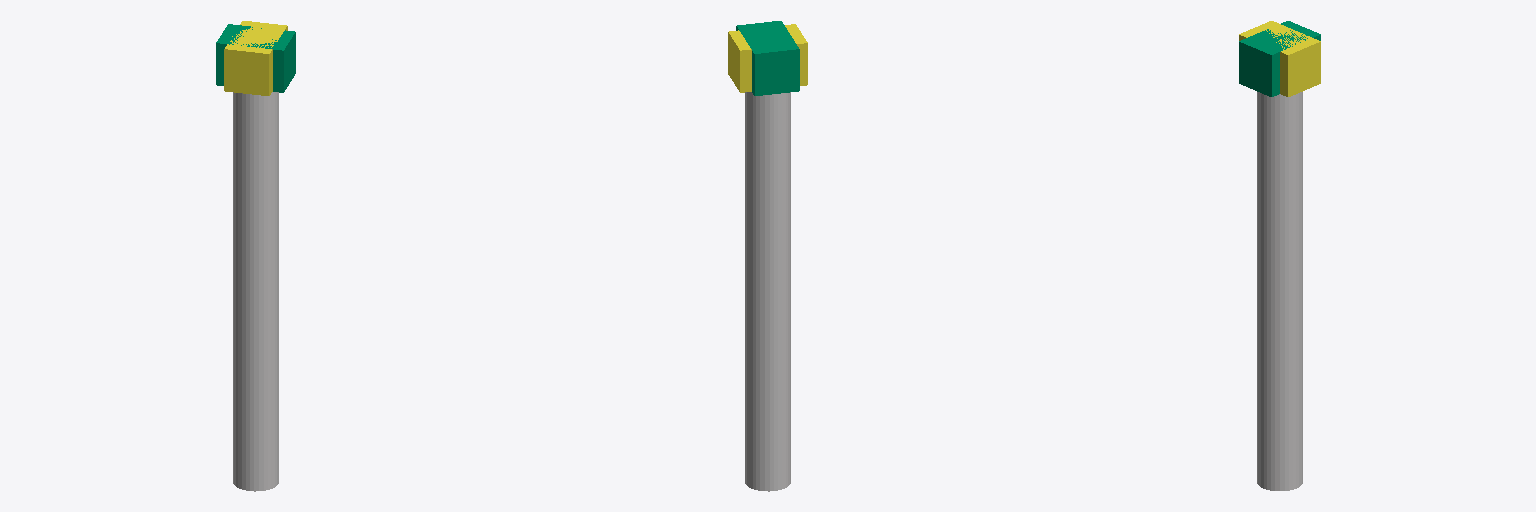
URDF robot description (camera_right):
<?xml version="1.0" encoding="utf-8"?>
<robot
  name="camera_right">

  <link name="world" />

  <joint name="base_joint" type="fixed">
    <parent link="world"/>
    <child link="body" />
    <origin xyz="0 0 0.010" rpy="0 0 0"/>
  </joint>

  <link name="body">
    <inertial>
      <origin
        xyz="0 0 0.5"
        rpy="0 0 0" />
      <mass
        value="1" />
      <inertia
        ixx="0.003958333"
        ixy="0"
        ixz="0"
        iyy="0.003958333"
        iyz="0"
        izz="0.02" />
    </inertial>
    
    <visual>
      <origin
          xyz="0 0 0.5"
          rpy="0 0 0" />
      <geometry>
        <cylinder length="1" radius="0.05"/>
      </geometry>
      <material
        name="">
        <color
          rgba="0.84706 0.83922 0.83922 1" />
      </material>
    </visual>

    <collision>
      <origin
        xyz="0 0 0.5"
        rpy="0 0 0" />
      <geometry>
        <cylinder length="1" radius="0.05"/>
      </geometry>
    </collision>
    </link>


    <joint name="camera_joint_0" type="fixed">
        <origin xyz="0 0 1" rpy="0 0 -2.355"/>
        <parent link="body"/>
        <child link="camera_link_0"/>
    </joint>


    <link name="camera_link_0">
        <visual>
            <origin xyz="0 0 0" rpy="0 0 0"/>
            <geometry>
                <box size="0.1 0.15 0.1" />
            </geometry>
        </visual>

        <collision>
            <origin xyz="0.003 0.065 0.007" rpy="0 0 0"/>
            <geometry>
                <box size="0.012 0.132 0.020"/>
            </geometry>
        </collision>    
    </link>

    <joint name="camera_joint_1" type="fixed">
        <origin xyz="0 0 1" rpy="0 0 -0.785398"/>
        <parent link="body"/>
        <child link="camera_link_1"/>
    </joint>

    <link name="camera_link_1">
        <visual>
            <origin xyz="0 0 0" rpy="0 0 0"/>
            <geometry>
                <box size="0.1 0.15 0.1" />
            </geometry>
        </visual>
    </link>

    <!--gazebo reference="body">
        <mu1>1</mu1>
        <mu2>1</mu2>
        <fdir1>1 0 0</fdir1>
        <kp>1e+13</kp>
        <kd>1</kd>
        <maxVel>0</maxVel>
        <minDepth>0.0000001</minDepth>
        <gravity>1</gravity>
        <material>Gazebo/Grey</material>
    </gazebo-->

    <!--gazebo reference="camera_link_0">
        <sensor type="camera" name="camera_right_0">
        <update_rate>100.0</update_rate>
            <camera name="head">
                <horizontal_fov>1.3962634</horizontal_fov>
                <image>
                <width>640</width>
                <height>320</height>
                <format>R8G8B8</format>
                </image>
            </camera>        
            <plugin name="camera_controller" filename="libgazebo_ros_camera.so">
                <alwaysOn>true</alwaysOn>
                <updateRate>0.0</updateRate>
                <cameraName>camera_right_0</cameraName>
                <imageTopicName>image_raw</imageTopicName>
                <cameraInfoTopicName>camera_info</cameraInfoTopicName>
                <frameName>camera_link_0</frameName>
                <hackBaseline>0.07</hackBaseline>
                <distortionK1>0.0</distortionK1>
                <distortionK2>0.0</distortionK2>
                <distortionK3>0.0</distortionK3>
                <distortionT1>0.0</distortionT1>
                <distortionT2>0.0</distortionT2>
            </plugin>
        </sensor>
    </gazebo-->

    <gazebo reference="camera_link_0">
      <sensor name="camera_right_0" type="depth">
        <update_rate>0</update_rate>
        <camera>
          <horizontal_fov>1.50098</horizontal_fov>
          <vertical_fov>0.7417649</vertical_fov>
          <image>
            <width>640</width>
            <height>360</height>
            <format>R8G8B8</format>
          </image>
          <clip>
            <near>0.1</near>
            <far>100</far>
          </clip>
        </camera>
        <plugin name="camera_right_0_controller" filename="libgazebo_ros_openni_kinect.so">
          <baseline>0.1</baseline>
          <alwaysOn>true</alwaysOn>
          <update_rate>0</update_rate>
          <cameraName>camera_right_0_ir</cameraName>
          <imageTopicName>camera_right_0/color/image_raw</imageTopicName>
          <cameraInfoTopicName>/camera_right_0/color/camera_info</cameraInfoTopicName>
          <depthImageTopicName>/camera_right_0/depth/image_raw</depthImageTopicName>
          <depthImageInfoTopicName>/camera_right_0/depth/camera_info</depthImageInfoTopicName>
          <pointCloudTopicName>/camera_right_0/depth/points</pointCloudTopicName>
          <frameName>camera_link_0</frameName>
          <pointCloudCutoff>0.1</pointCloudCutoff>
          <pointCloudCutoffMax>15.0</pointCloudCutoffMax>
          <distortionK1>0.00000001</distortionK1>
          <distortionK2>0.00000001</distortionK2>
          <distortionK3>0.00000001</distortionK3>
          <distortionT1>0.00000001</distortionT1>
          <distortionT2>0.00000001</distortionT2>
          <CxPrime>0</CxPrime>
          <Cx>320</Cx>
          <Cy>180</Cy>
          <focalLength>343.159073</focalLength>
          <hackBaseline>0</hackBaseline>
        </plugin>
      </sensor>
    </gazebo>



    <!--gazebo reference="camera_link_1">
        <sensor type="camera" name="camera_right_1">
        <update_rate>100.0</update_rate>
            <camera name="head">
                <horizontal_fov>1.3962634</horizontal_fov>
                <image>
                <width>640</width>
                <height>320</height>
                <format>R8G8B8</format>
                </image>
            </camera>        
            <plugin name="camera_controller" filename="libgazebo_ros_camera.so">
                <alwaysOn>true</alwaysOn>
                <updateRate>0.0</updateRate>
                <cameraName>camera_right_1</cameraName>
                <imageTopicName>image_raw</imageTopicName>
                <cameraInfoTopicName>camera_info</cameraInfoTopicName>
                <frameName>camera_link_1</frameName>
                <hackBaseline>0.07</hackBaseline>
                <distortionK1>0.0</distortionK1>
                <distortionK2>0.0</distortionK2>
                <distortionK3>0.0</distortionK3>
                <distortionT1>0.0</distortionT1>
                <distortionT2>0.0</distortionT2>
            </plugin>
        </sensor>
    </gazebo-->

    <gazebo reference="camera_link_1">
      <sensor name="camera_right_1" type="depth">
        <update_rate>1000</update_rate>
        <camera>
          <horizontal_fov>1.3962634</horizontal_fov>
          <image>
            <width>640</width>
            <height>360</height>
            <format>R8G8B8</format>
          </image>
          <clip>
            <near>0.1</near>
            <far>100</far>
          </clip>
        </camera>
        <plugin name="camera_right_1_controller" filename="libgazebo_ros_openni_kinect.so">
          <baseline>0.2</baseline>
          <alwaysOn>true</alwaysOn>
          <update_rate>1000</update_rate>
          <cameraName>camera_right_1_ir</cameraName>
          <imageTopicName>camera_right_1/color/image_raw</imageTopicName>
          <cameraInfoTopicName>/camera_right_1/color/camera_info</cameraInfoTopicName>
          <depthImageTopicName>/camera_right_1/depth/image_raw</depthImageTopicName>
          <depthImageInfoTopicName>/camera_right_1/depth/camera_info</depthImageInfoTopicName>
          <pointCloudTopicName>/camera_right_1/depth/points</pointCloudTopicName>
          <frameName>camera_link_1</frameName>
          <pointCloudCutoff>0.5</pointCloudCutoff>
          <pointCloudCutoffMax>20.0</pointCloudCutoffMax>
          <distortionK1>0.00000001</distortionK1>
          <distortionK2>0.00000001</distortionK2>
          <distortionK3>0.00000001</distortionK3>
          <distortionT1>0.00000001</distortionT1>
          <distortionT2>0.00000001</distortionT2>
          <CxPrime>0</CxPrime>
          <Cx>320</Cx>
          <Cy>180</Cy>
          <focalLength>0</focalLength>
          <hackBaseline>0</hackBaseline>
        </plugin>
      </sensor>
    </gazebo>

</robot>

--- Render facts (derived) ---
3 views of the same robot in one strip: view 1: azimuth 30°, elevation 25°; view 2: azimuth 150°, elevation 25°; view 3: azimuth 270°, elevation 25° (orthographic).
Model camera_right with 4 links and 3 joints (3 fixed), rooted at world, posed all joints at 0.
Links seen in each view (by area): view 1: body, camera_link_1, camera_link_0; view 2: body, camera_link_0, camera_link_1; view 3: body, camera_link_0, camera_link_1.
Boxes of the visible links, <box> form: body: <box>233,92,278,491</box>; camera_link_1: <box>224,21,287,95</box>; camera_link_0: <box>216,24,295,92</box>; body: <box>745,92,790,491</box>; camera_link_0: <box>736,21,799,95</box>; camera_link_1: <box>728,24,807,92</box>; body: <box>1257,92,1302,490</box>; camera_link_0: <box>1239,21,1320,96</box>; camera_link_1: <box>1239,21,1320,96</box>.
Size in the robot's own frame: 0.1768 by 0.1768 by 1.05 metres.
Geometry: primitives only (box / cylinder / sphere), no mesh files.
